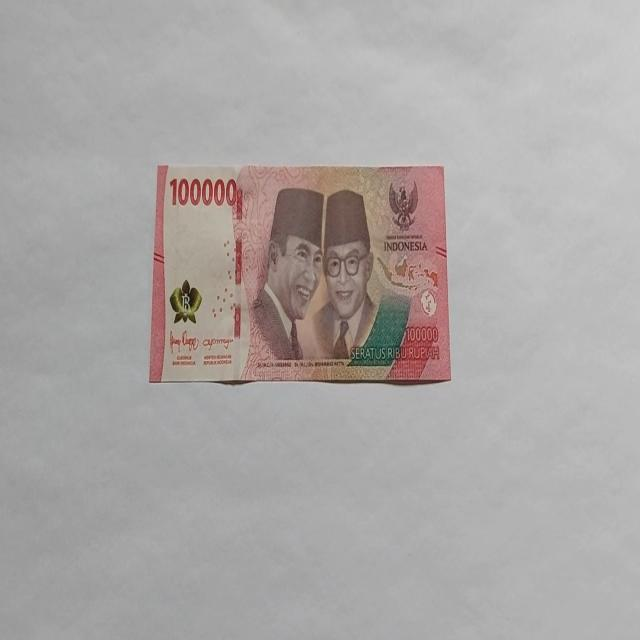seratus ribu rupiah: (148, 162, 452, 386)
